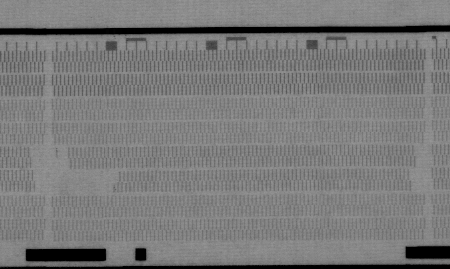Broken hole: (27, 147, 75, 201), (68, 167, 121, 195), (408, 142, 427, 195)
